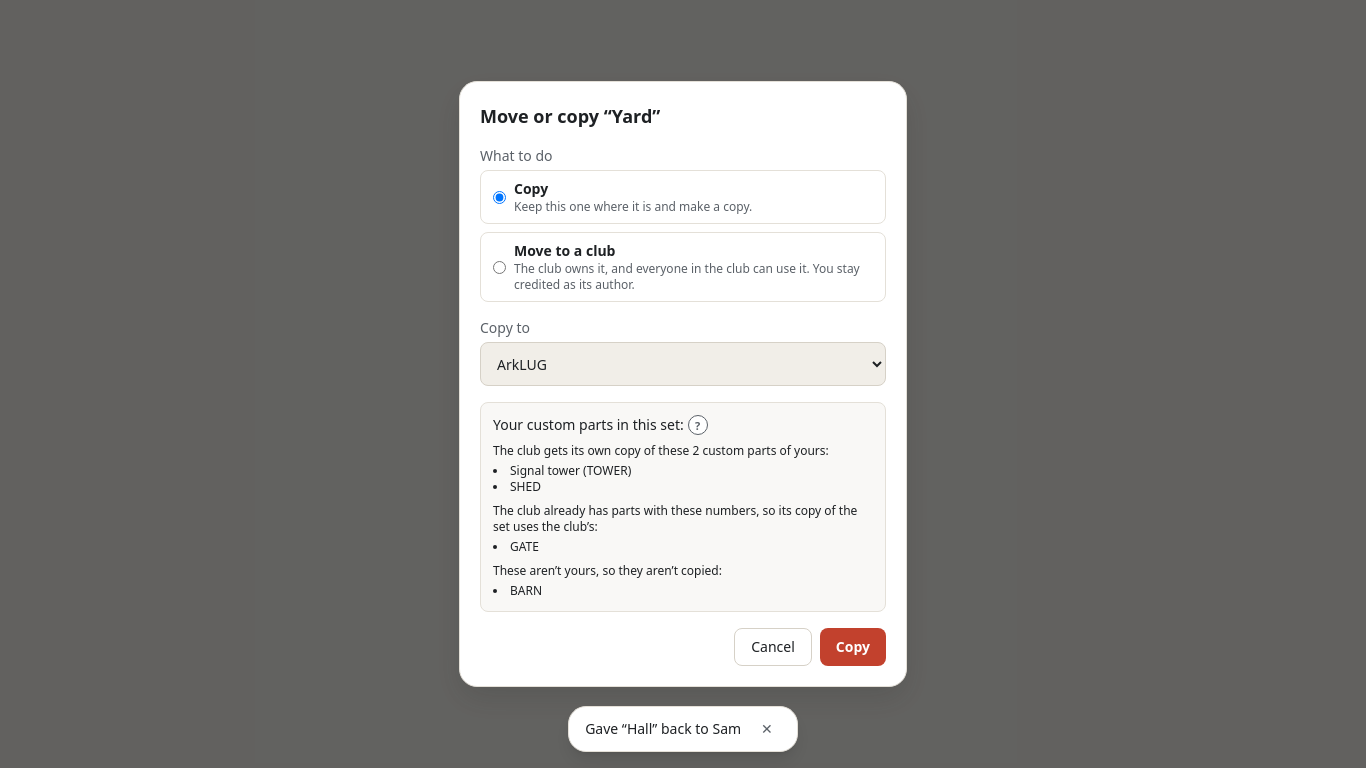
moving your own thing into a club › copying a set to a club lists which of your parts the club gets a copy of, and says so after
Expected: the element with test id "set-move-parts" shows "The club gets its own copy of these 2 custom parts of yours:", [493,442,829,459]
Expected: the element with test id "set-move-parts" shows "Signal tower (TOWER)", [510,462,631,479]
Click the button "Copy". click: (853, 647)
box: [820,628,886,666]
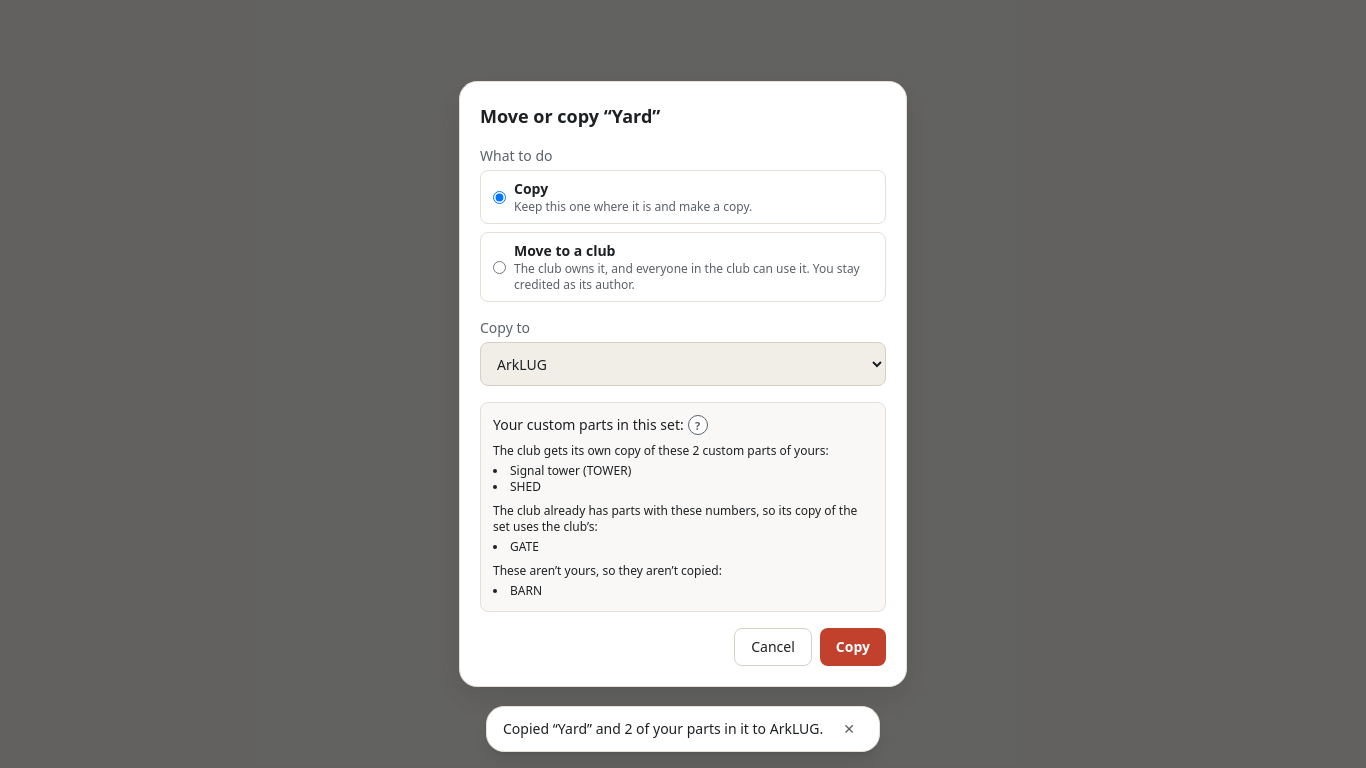
Expected: the text "Copied “Yard” and 2 of your parts in it to ArkLUG." is shown, [503,719,823,739]
